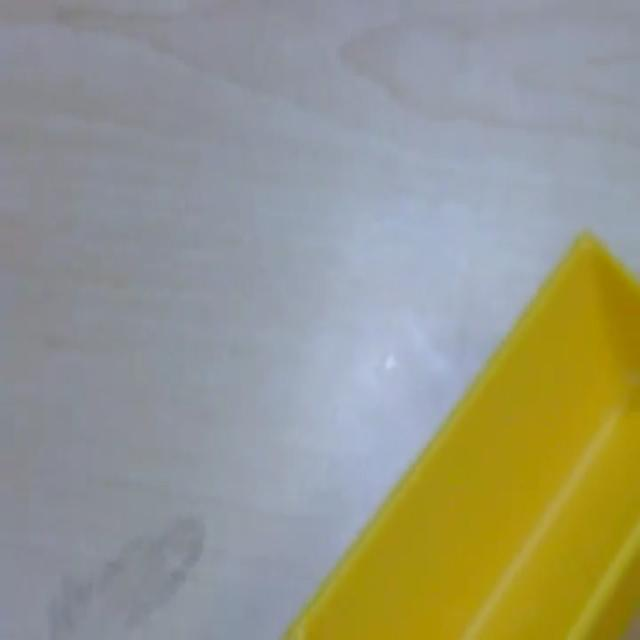yellow_block: (282, 227, 638, 637)
